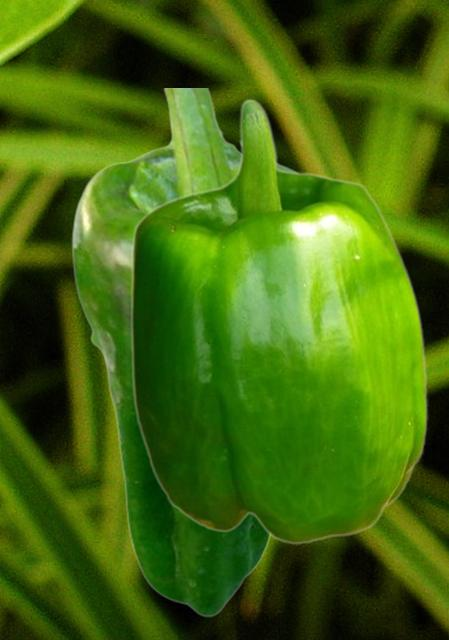bell_pepper: (129, 98, 427, 544), (70, 88, 299, 617)
